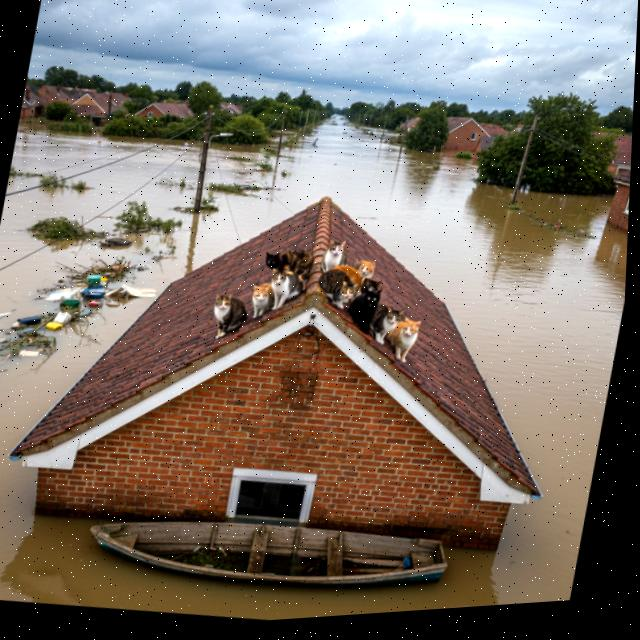cat: (309, 259, 362, 318), (386, 304, 429, 369), (202, 287, 252, 342), (331, 257, 386, 303), (261, 268, 309, 315), (373, 294, 407, 354), (257, 245, 312, 282), (350, 281, 386, 335), (241, 275, 275, 329), (320, 235, 350, 276), (355, 253, 384, 288)
